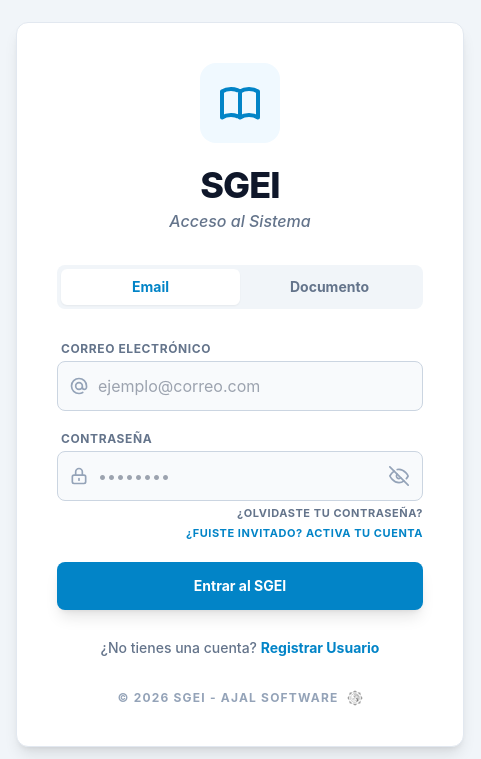
Test case: Login Component › debe cambiar al método de login por documento
Click the button "Documento". click: (330, 286)
box: [240,268,419,304]
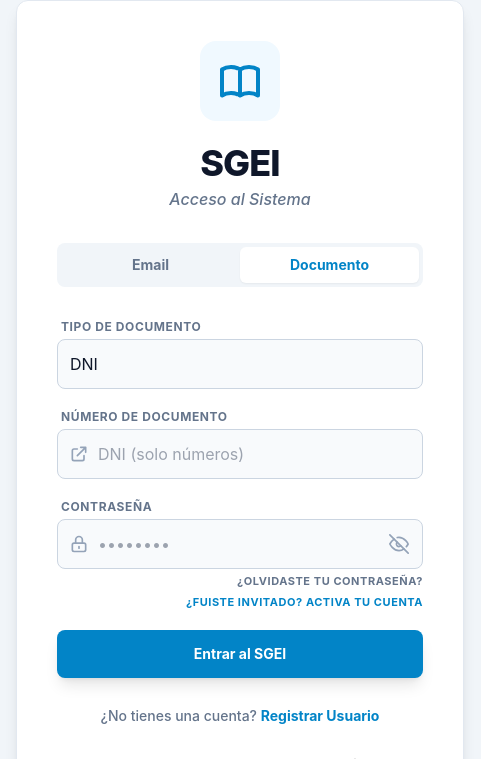
Now the text "Tipo de Documento" is shown, box [61,319,201,334]
Now the field with placeholder "DNI (solo números)" is shown, box [57,429,423,479]
